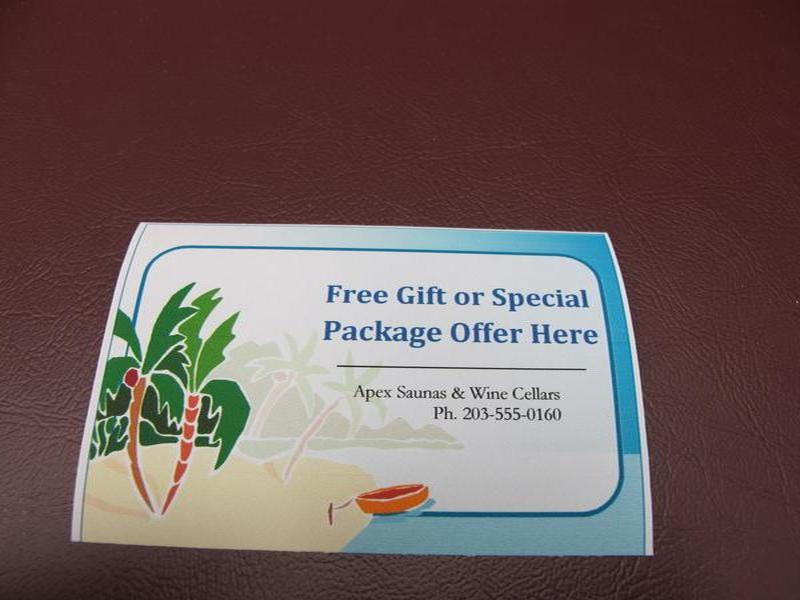card: (71, 205, 662, 558)
